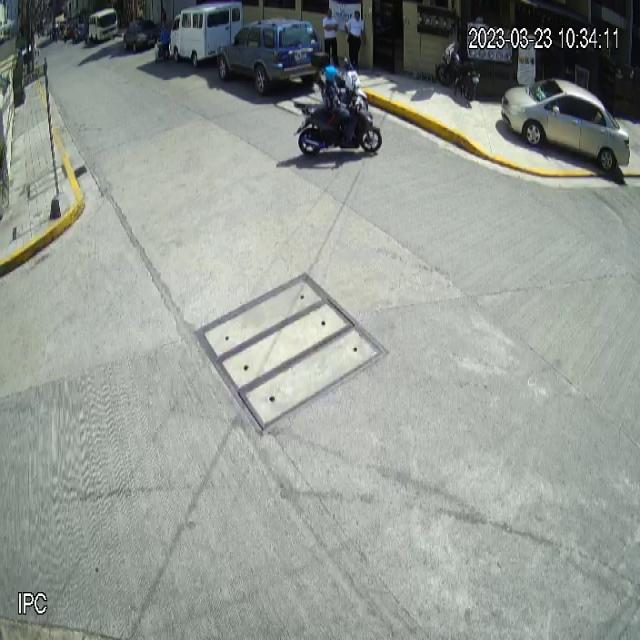Car: (500, 76, 631, 172), (216, 17, 323, 97)
Motorcycle: (290, 94, 383, 157)
Van: (169, 0, 244, 69)
